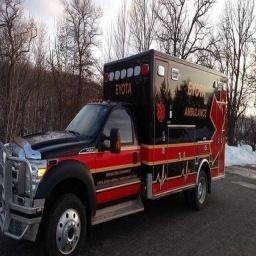Ambulance: (0, 50, 226, 254)
